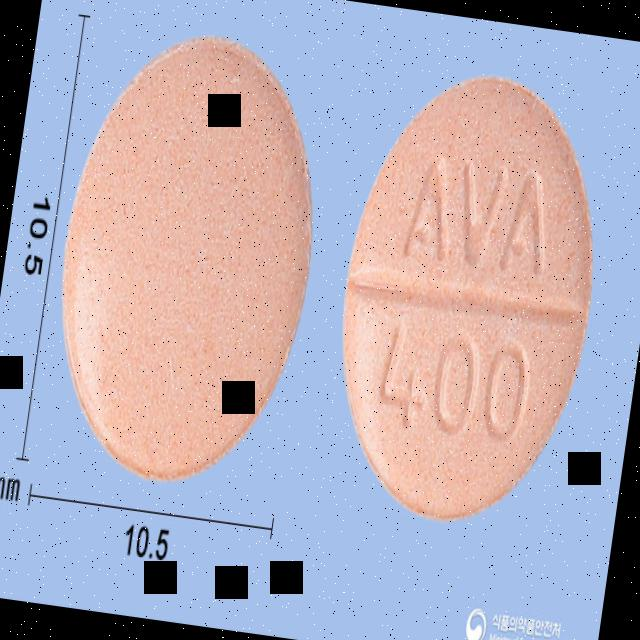Aclova: (313, 59, 622, 542)
